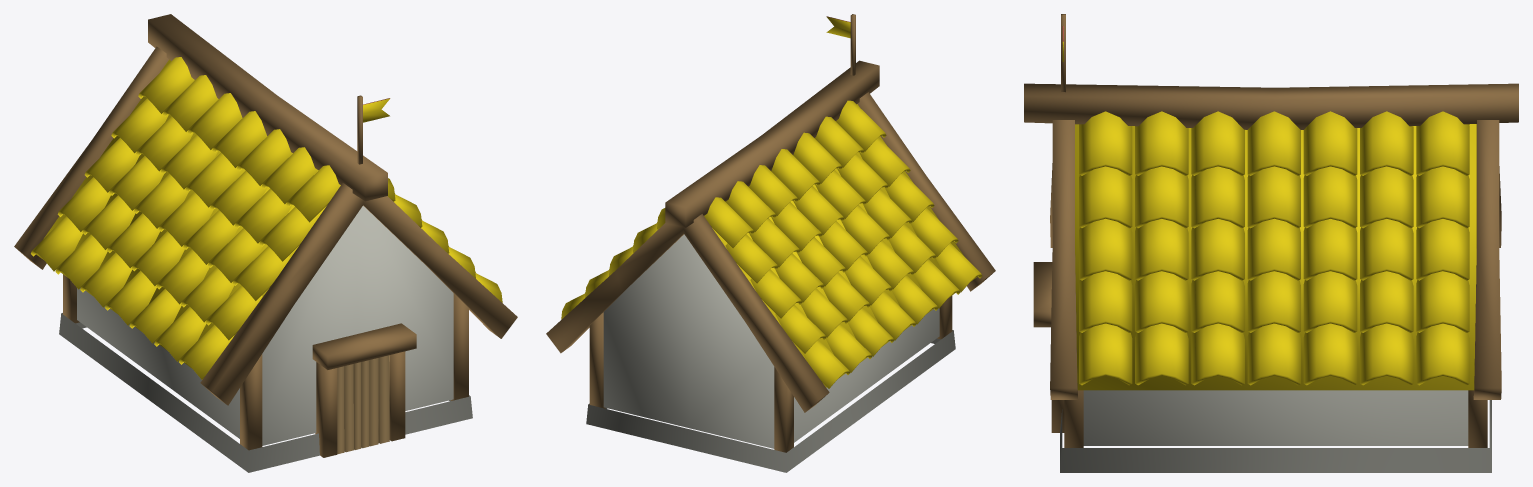
Rendered from casa_amarilla.glb.
The picture shows the model from 3 angles, left to right: view 1: azimuth 30°, elevation 25°; view 2: azimuth 150°, elevation 25°; view 3: azimuth 270°, elevation 25°; orthographic projection. The views are drawn at different scales.
Parts seen in each view (by area): view 1: Houses_SecondAge_1_Level2; view 2: Houses_SecondAge_1_Level2; view 3: Houses_SecondAge_1_Level2.
Boxes of the visible parts, x1,y1,x2,y2 form: Houses_SecondAge_1_Level2: (14, 14, 517, 472); Houses_SecondAge_1_Level2: (546, 14, 995, 472); Houses_SecondAge_1_Level2: (1024, 14, 1518, 472).
Size of the model in its own units: 3.68 by 3.91 by 4.42.
